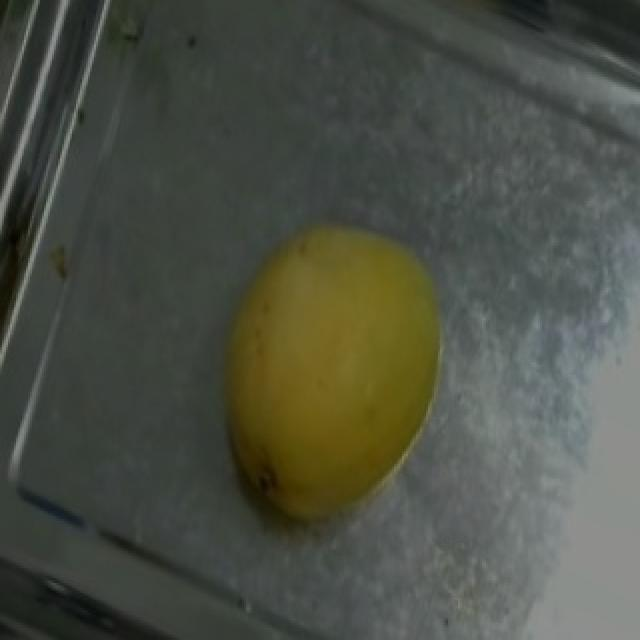fruit: (176, 181, 510, 553)
